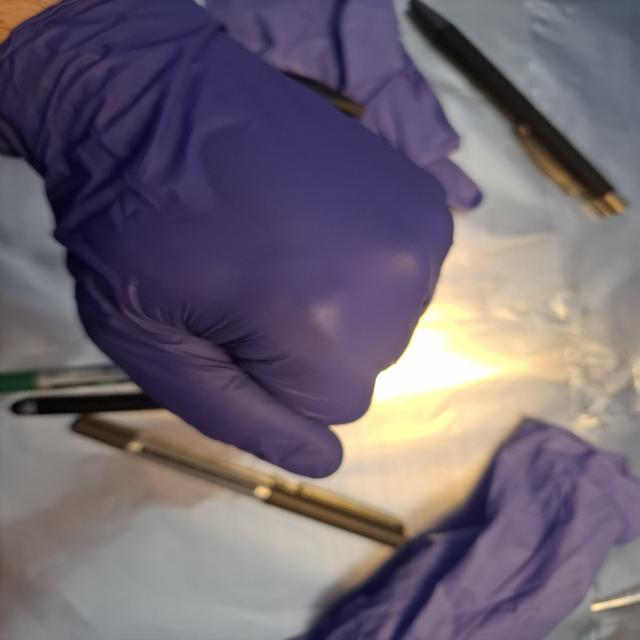glove_on: (1, 0, 458, 482)
